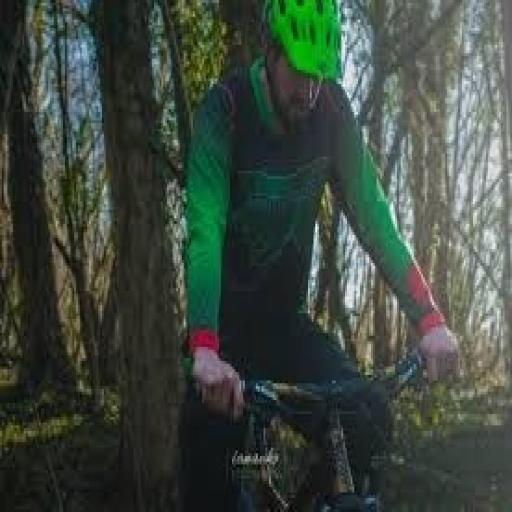cycling: (178, 0, 462, 509)
